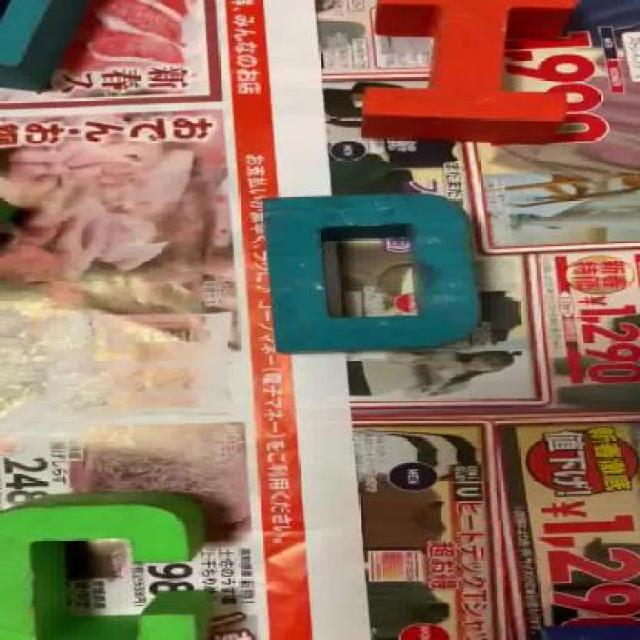D: (268, 198, 472, 354)
